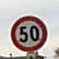limite 50: (9, 14, 47, 51)
